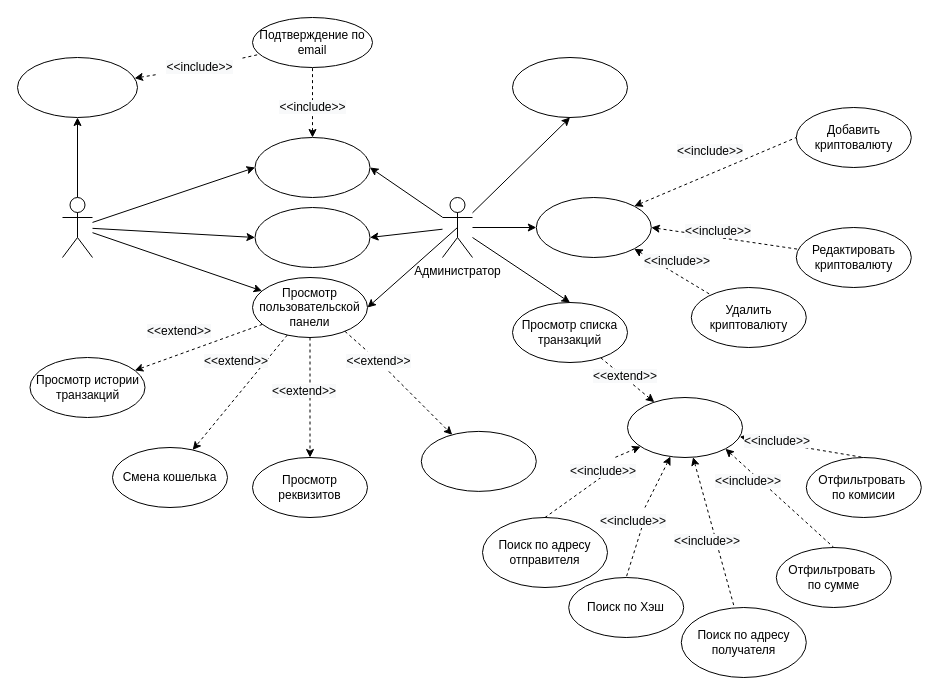
Some shapes in this 939 by 695 pixel diagram are drawn without their labels. The shapes that lost their labels are listed below. From the top down, each one's box as (x1, y1, x2, y2) in pixels, then its label:
(16, 56, 138, 118): Регистрация
(512, 56, 628, 118): Регистрация пользователей
(254, 136, 370, 198): Авторизация
(62, 196, 92, 258): Пользователь
(254, 206, 370, 268): Восстановление аккаунта
(535, 196, 651, 258): Просмотр списка криптовалюты
(626, 396, 742, 458): Отфильтровать список транзакций
(420, 430, 536, 491): Создание транзакции
